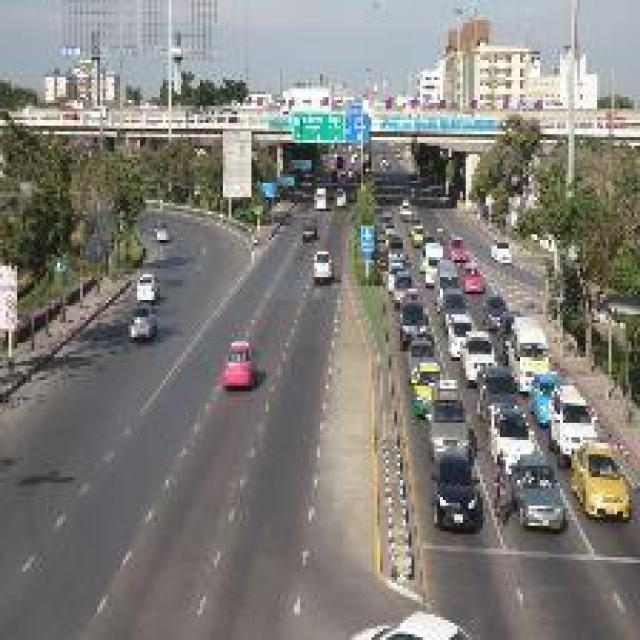other: (559, 441, 629, 526), (221, 319, 260, 387)
